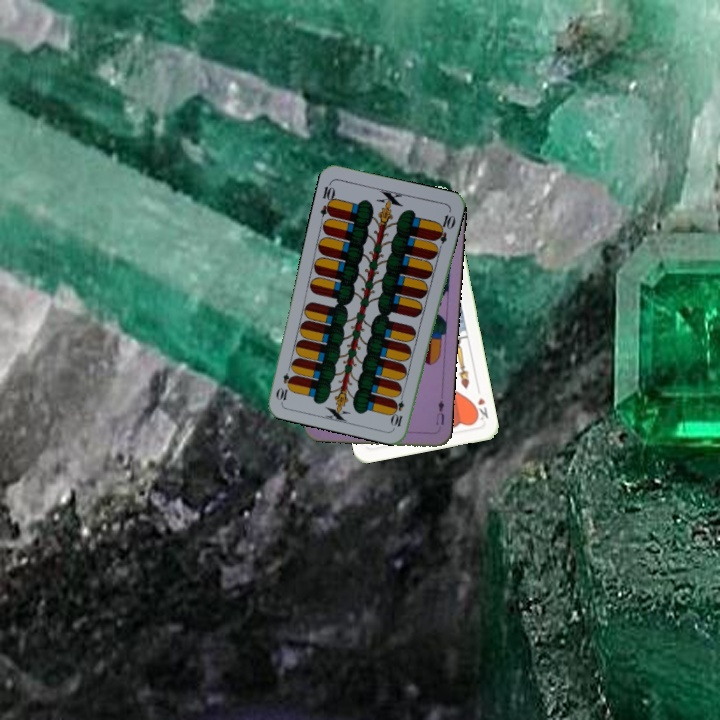E10: (316, 178, 338, 219), (389, 389, 407, 429)
EU: (432, 396, 447, 427)
HK: (470, 393, 491, 423)
